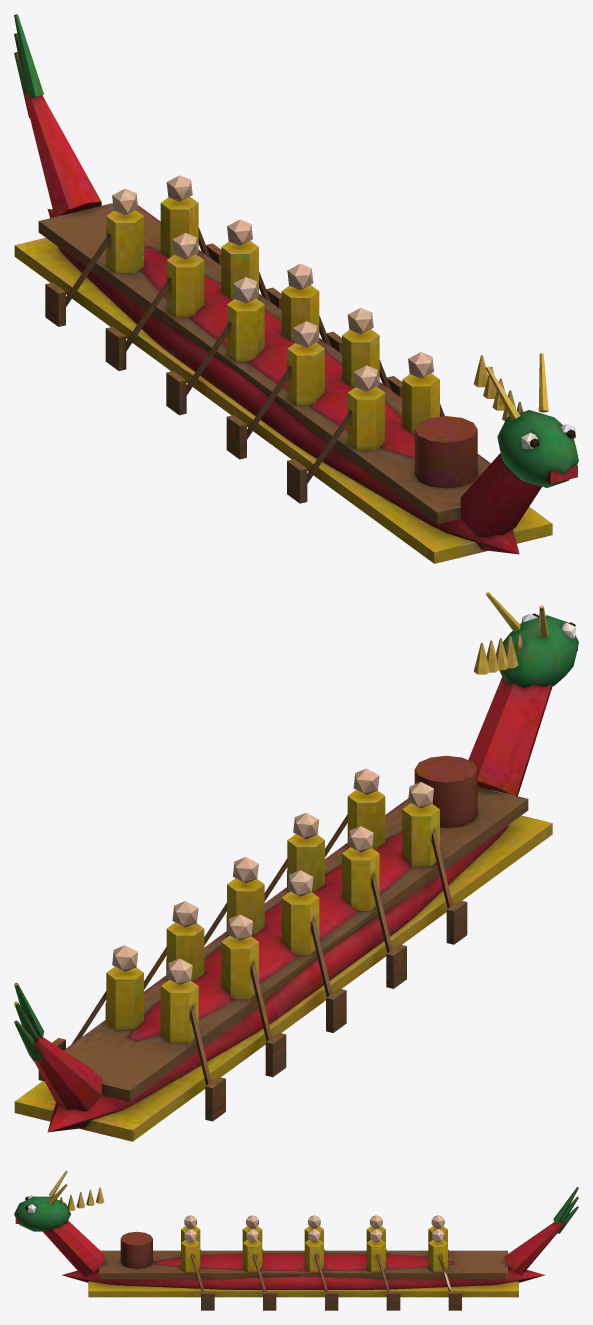
File: barco_dragon.glb
The picture shows the model from 3 angles, top to bottom: view 1: azimuth 30°, elevation 25°; view 2: azimuth 150°, elevation 25°; view 3: azimuth 270°, elevation 25°; orthographic projection. The views are drawn at different scales.
Visible parts, largest first — view 1: barco_dragon; view 2: barco_dragon; view 3: barco_dragon.
Boxes of the visible parts, <box> form: barco_dragon: <box>14,14,578,563</box>; barco_dragon: <box>14,592,578,1141</box>; barco_dragon: <box>14,1170,578,1310</box>.
Bounding box in the file's own units: 1.84 × 2.39 × 10.5.
1 material, 1 textured.
